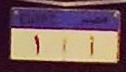1: (33, 32, 42, 57)
alif: (86, 34, 95, 56)
